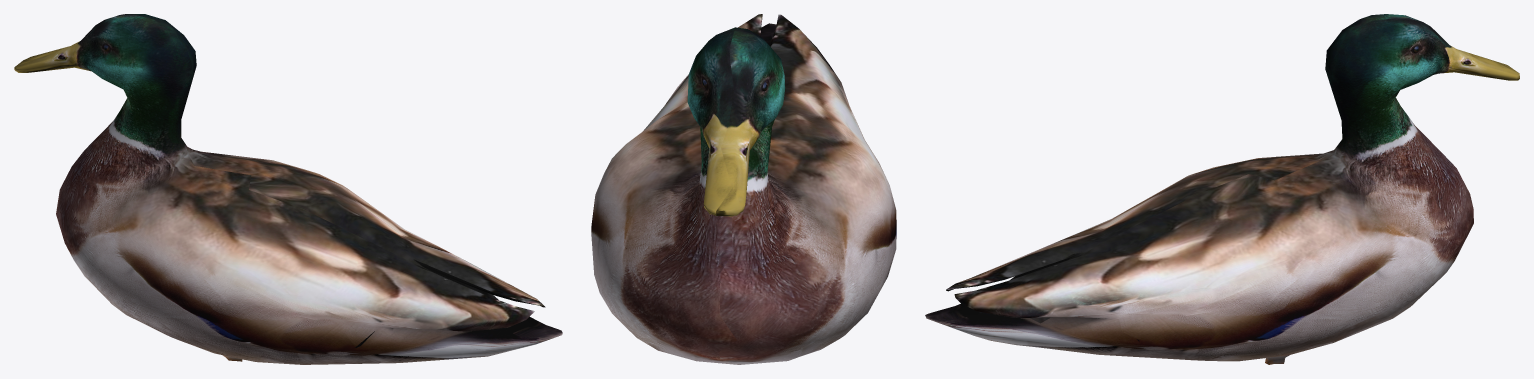
Rendered from rotateDuck.obj.
3 views of the same model, side by side, from view 1: azimuth 30°, elevation 25°; view 2: azimuth 150°, elevation 25°; view 3: azimuth 270°, elevation 25° (orthographic). The views are drawn at different scales.
Visible parts, largest first — view 1: 12248_Bird_v1_L2.006_12248_Bird_v1_L2.009; view 2: 12248_Bird_v1_L2.006_12248_Bird_v1_L2.009; view 3: 12248_Bird_v1_L2.006_12248_Bird_v1_L2.009.
Boxes of the visible parts, x1,y1,x2,y2 form: 12248_Bird_v1_L2.006_12248_Bird_v1_L2.009: [14, 14, 562, 364]; 12248_Bird_v1_L2.006_12248_Bird_v1_L2.009: [591, 14, 896, 364]; 12248_Bird_v1_L2.006_12248_Bird_v1_L2.009: [925, 14, 1519, 364].
Size of the model in its own units: 0.1375 by 0.1367 by 0.2489.
Materials: 1 (1 with a texture image).
